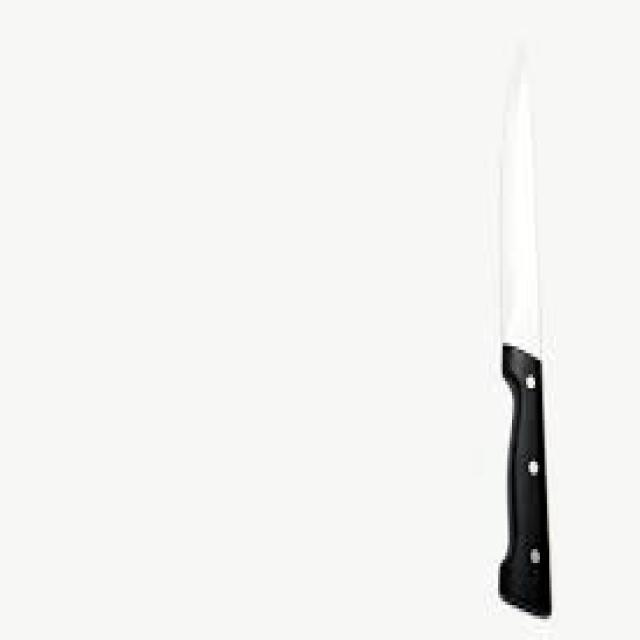Knife: (496, 38, 552, 619)
